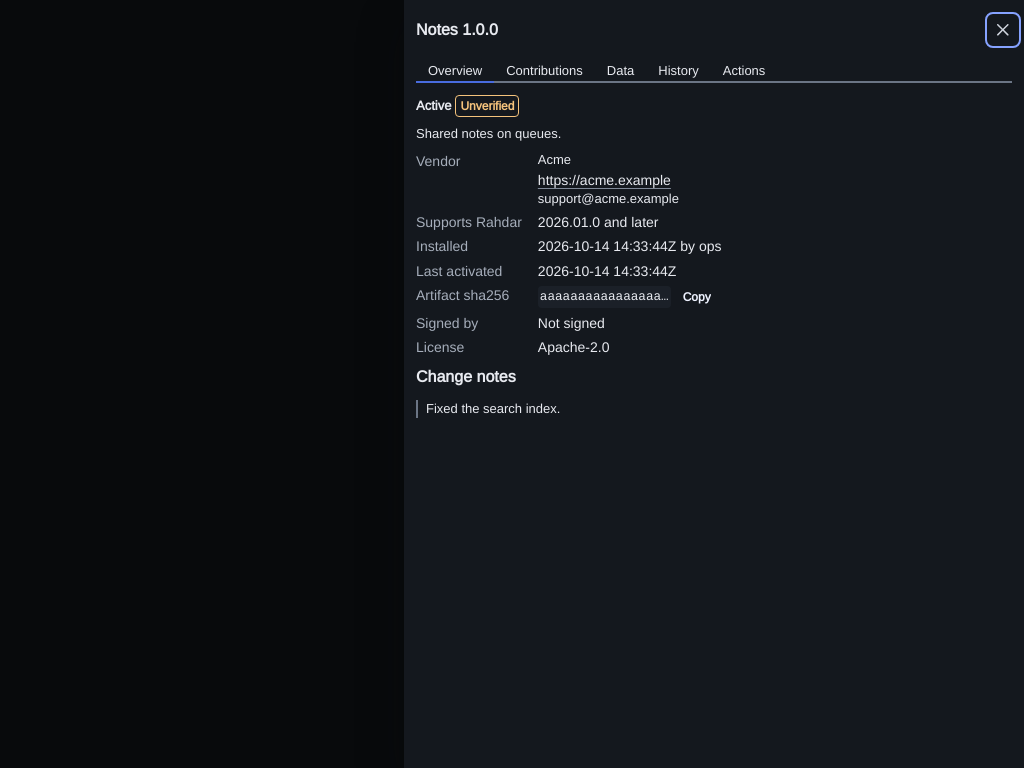
PluginDrawer: contributions › says a plugin without a UI has no screens of its own, and lists nothing else
Click the tab "Contributions". click: (544, 72)
box: [494,60,595,83]
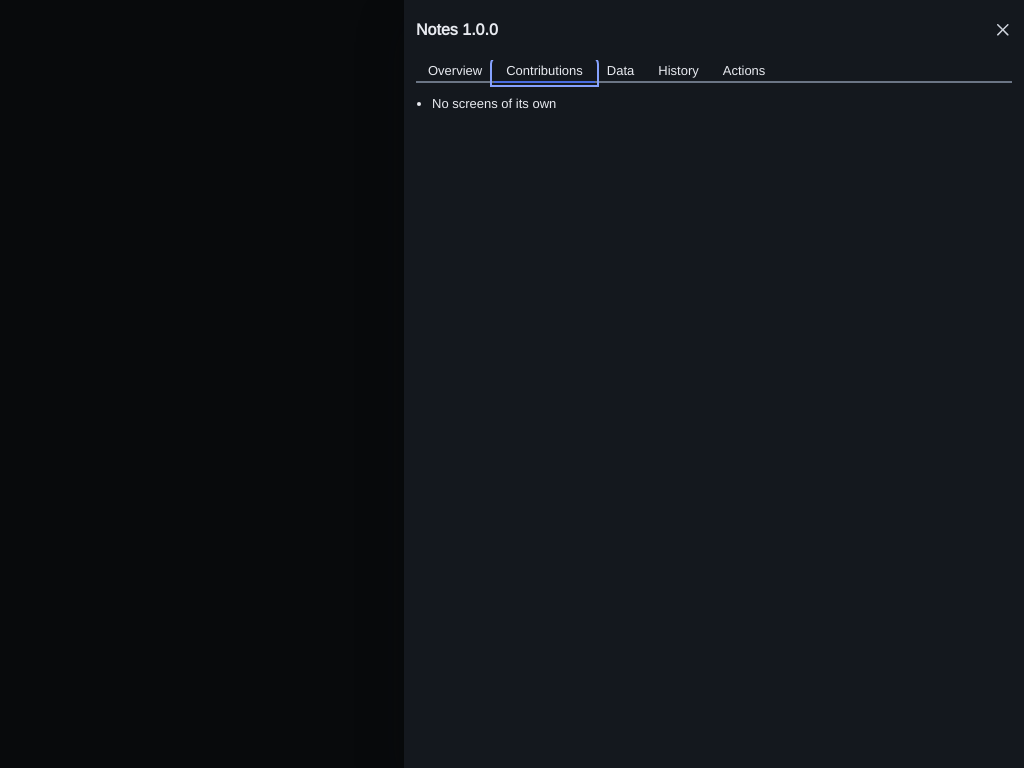
Now the text "No screens of its own" is shown, box [432,95,556,113]
